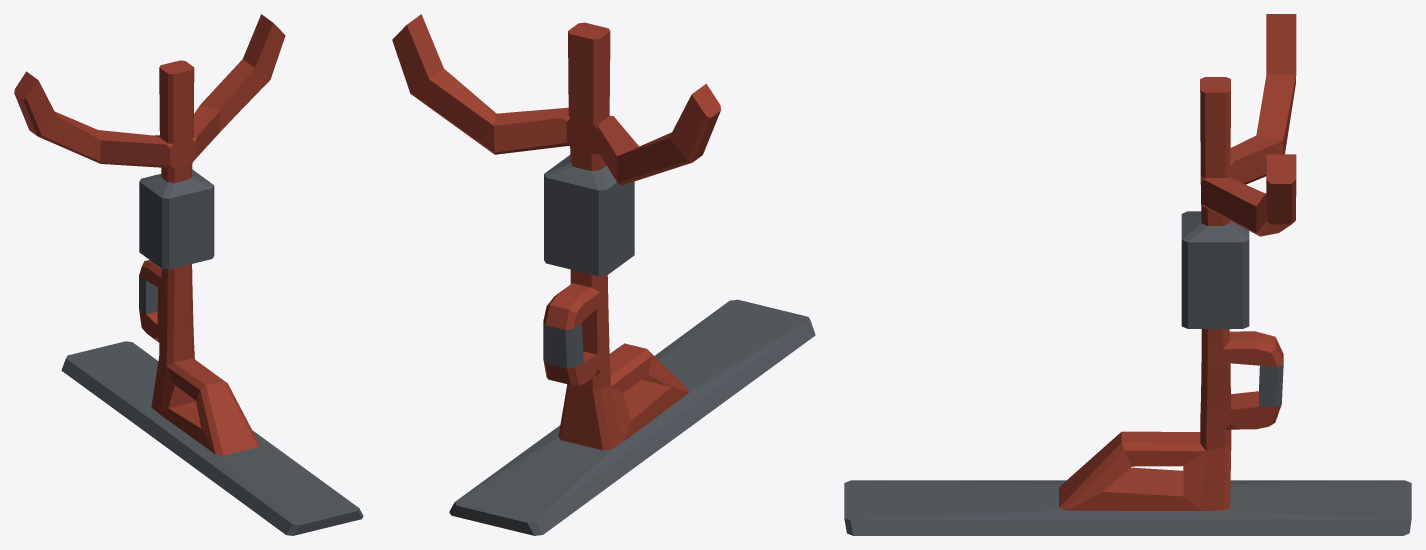
The model's file is Dropship_05_Front_Lander_Red.fbx.
3 views of the same model, side by side, from view 1: azimuth 30°, elevation 25°; view 2: azimuth 150°, elevation 25°; view 3: azimuth 270°, elevation 25° (orthographic). The views are drawn at different scales.
Parts seen in each view (by area): view 1: Dropship_05_Front_Lander_Red; view 2: Dropship_05_Front_Lander_Red; view 3: Dropship_05_Front_Lander_Red.
Boxes of the visible parts, x1,y1,x2,y2 form: Dropship_05_Front_Lander_Red: (14,14,363,535); Dropship_05_Front_Lander_Red: (392,14,815,535); Dropship_05_Front_Lander_Red: (844,14,1411,535).
Size of the model in its own units: 183 by 234 by 281.
Materials: 1 (1 with a texture image).
